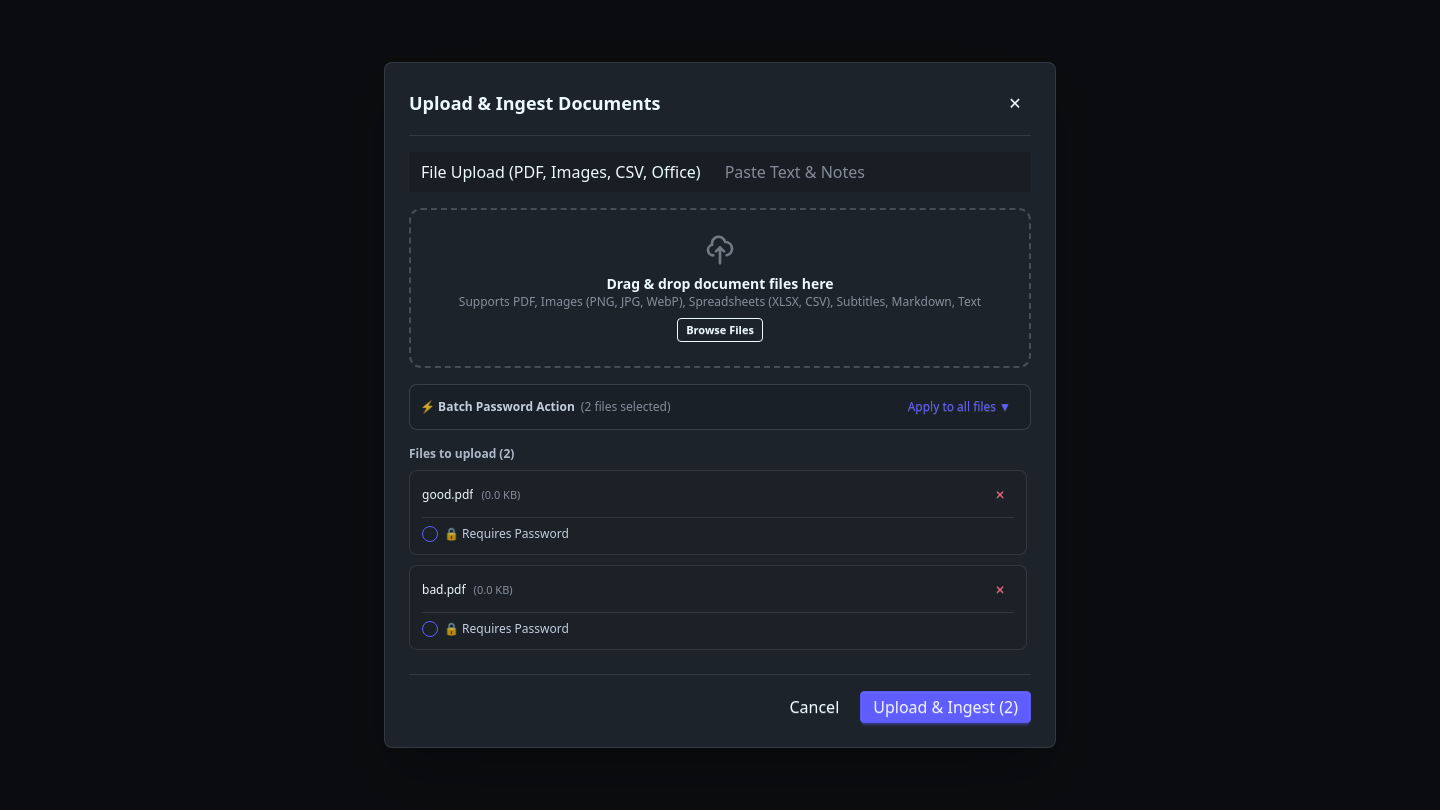
isolates errors when one file fails during upload
Expected: the text "good.pdf" is shown, [422,487,473,503]
Click the button "Upload & Ingest (2)" at {"x": 946, "y": 707}, box [860,691,1031,723]
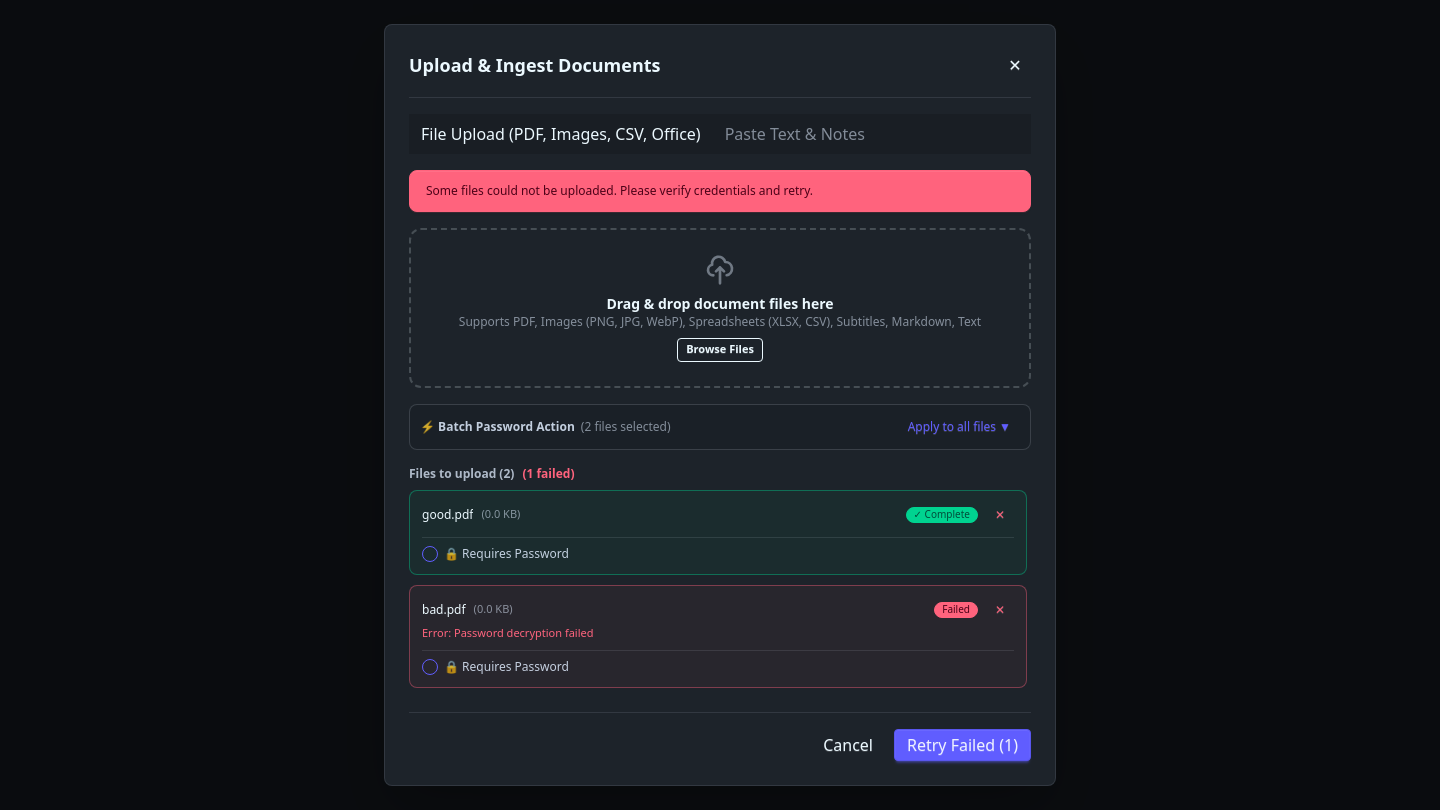
Expected: the text "Error: Password decryption failed" is shown, [422,625,594,640]
Expected: the button "Retry Failed (1)" is shown, [894,729,1031,761]
Expected: the text "✓ Complete" is shown, [906,507,978,523]
